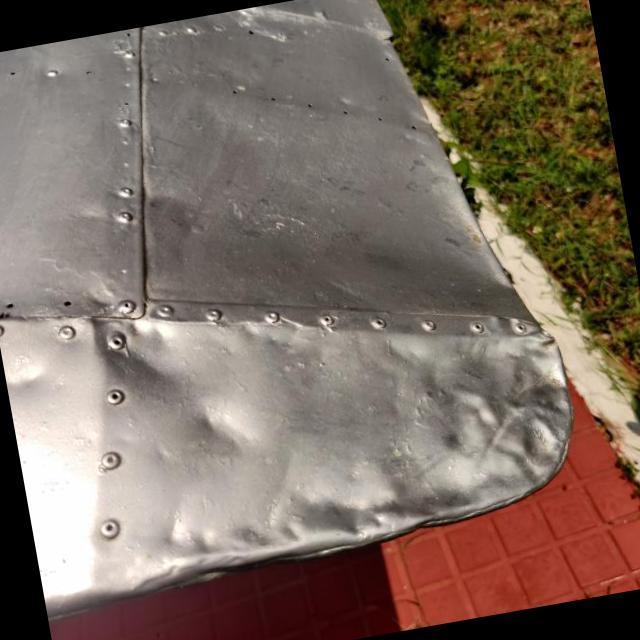Dent: (111, 440, 467, 607), (403, 326, 594, 502), (86, 300, 196, 418), (170, 375, 279, 482), (0, 336, 69, 418)
